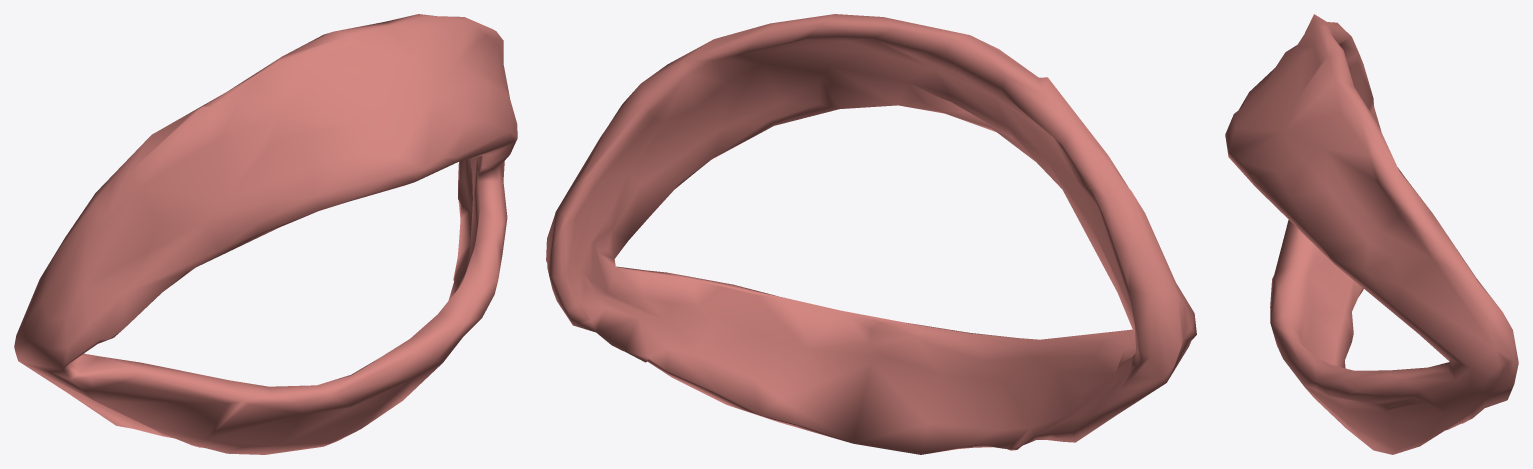
The picture shows the model from 3 angles, left to right: view 1: azimuth 30°, elevation 25°; view 2: azimuth 150°, elevation 25°; view 3: azimuth 270°, elevation 25°; orthographic projection. The views are drawn at different scales.
Parts seen in each view (by area): view 1: ZA_16d7e34e4153cdc6; view 2: ZA_16d7e34e4153cdc6; view 3: ZA_16d7e34e4153cdc6.
Part boxes in pixels (bbox=[...]): ZA_16d7e34e4153cdc6: bbox=[14, 14, 517, 454]; ZA_16d7e34e4153cdc6: bbox=[546, 14, 1196, 454]; ZA_16d7e34e4153cdc6: bbox=[1225, 14, 1518, 454].
Bounding box in the file's own units: 0.0336 × 0.0242 × 0.0173.
